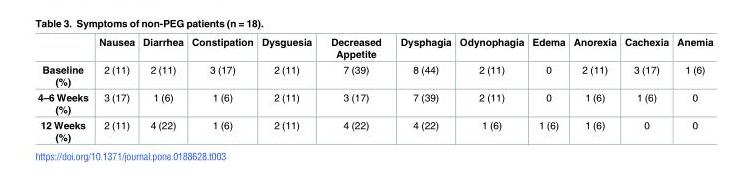table: (36, 37, 712, 142)
table column: (454, 37, 527, 142), (186, 37, 256, 142), (320, 37, 390, 142), (256, 37, 320, 142), (390, 37, 454, 142), (36, 37, 93, 142), (619, 37, 672, 142), (568, 37, 619, 142), (138, 37, 186, 142), (93, 37, 138, 142), (527, 37, 568, 142), (672, 37, 712, 142)
table column header: (36, 37, 712, 62)
table row: (36, 89, 712, 117), (36, 62, 712, 89), (36, 37, 712, 62), (36, 117, 712, 142)
